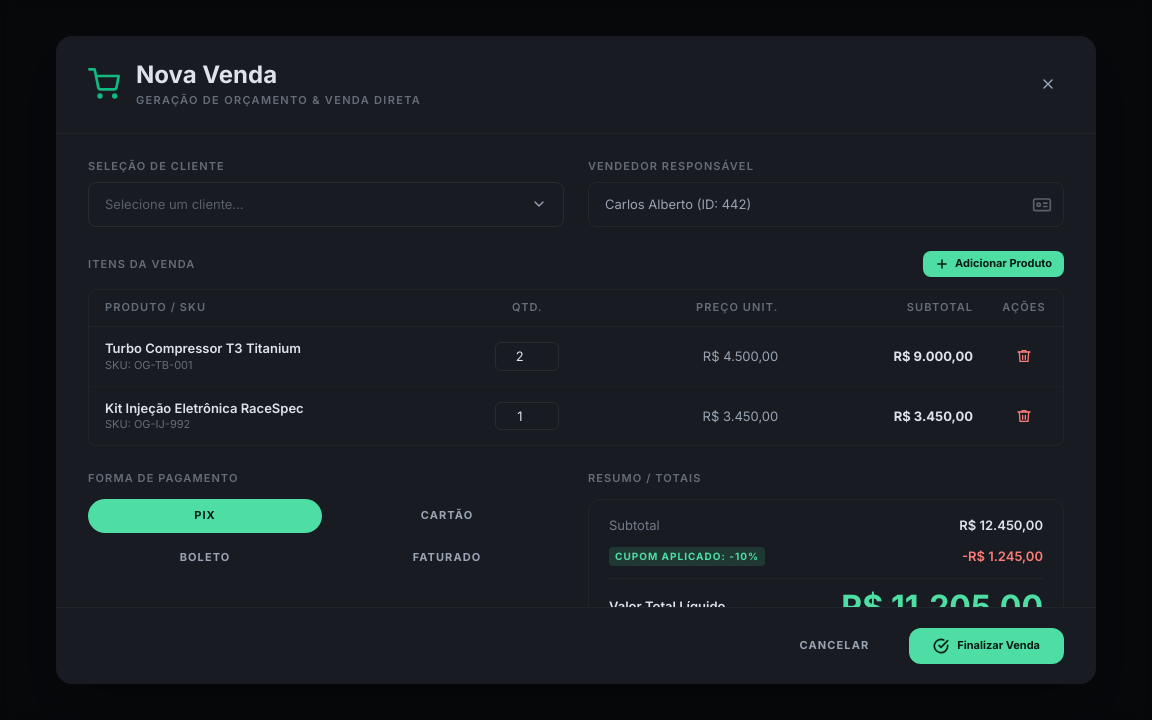
SaleFormModal 4.2 — Edição de Quantidade › alterar qty do Turbo para 3 muda subtotal da linha para R$ 13.500,00
Step 1. Replace the text in the number field named "quantidade do produto turbo compressor" with "3" → [527, 356], box left=495, top=342, right=559, bottom=371
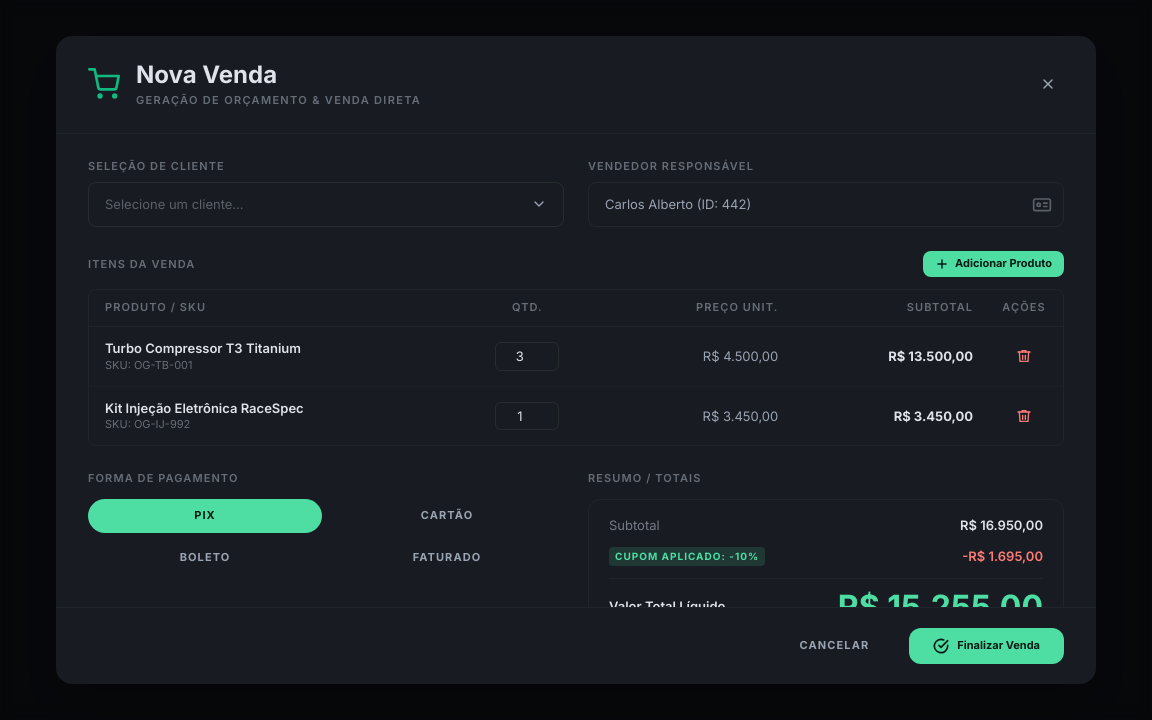
Now the text "R$ 13.500,00" is shown, box left=790, top=326, right=985, bottom=386
